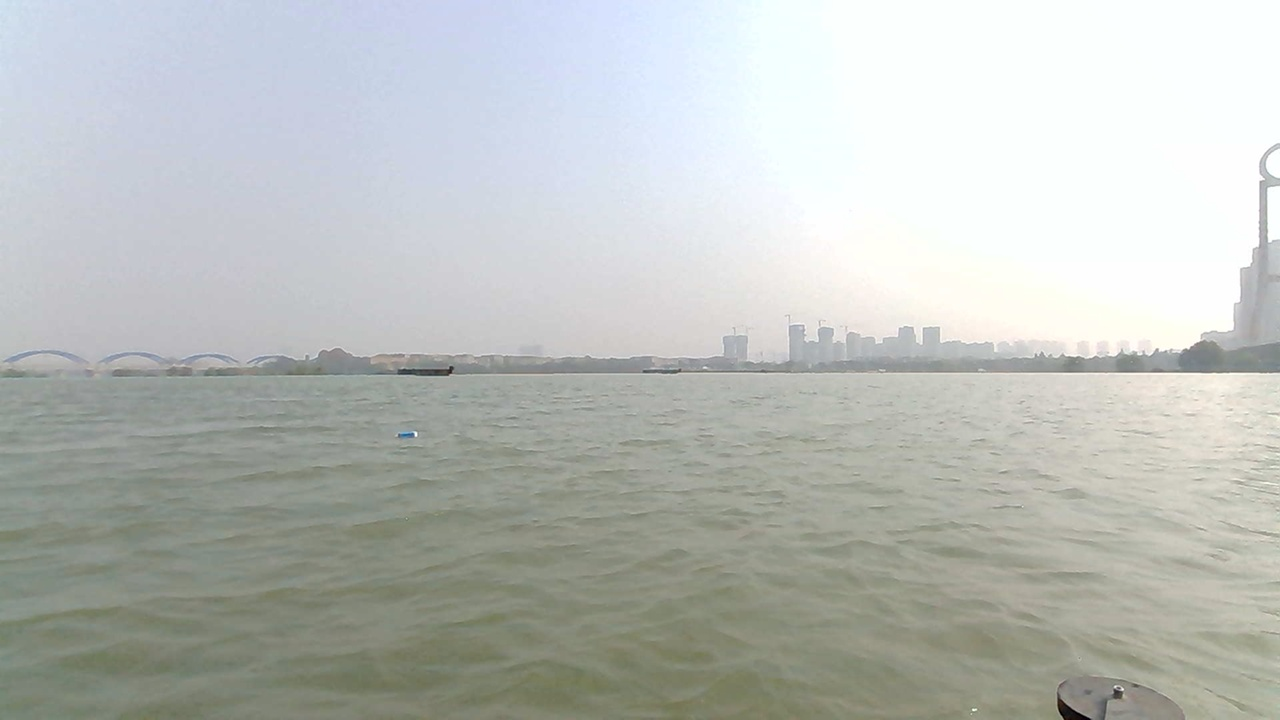bottle: (393, 429, 423, 444)
